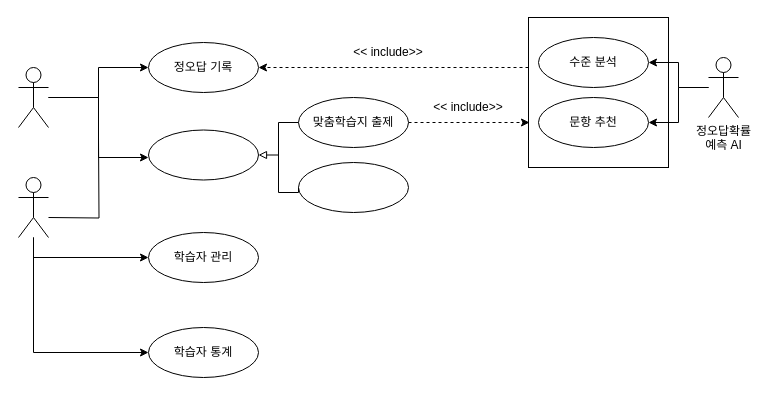
This 768x395 diagram has some shape labels left out. The shapes that lost their labels are listed below. From the top down, each one's centre as x and y in pixels, then its label:
point (33, 97): 학습자
point (203, 154): 학습지 출제
point (33, 207): 선생님
point (353, 187): 진단학습지 출제
